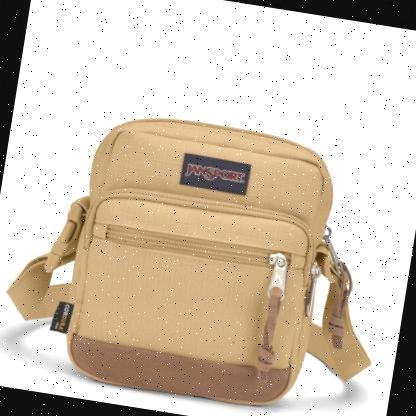person: (0, 89, 411, 416)
